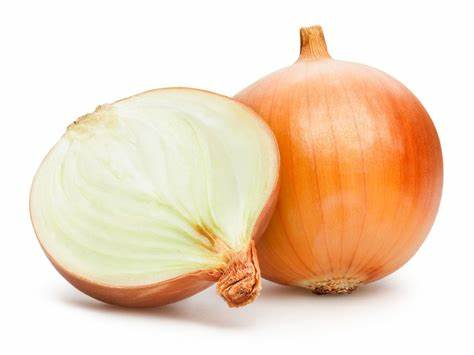Onion: (218, 23, 447, 311)
